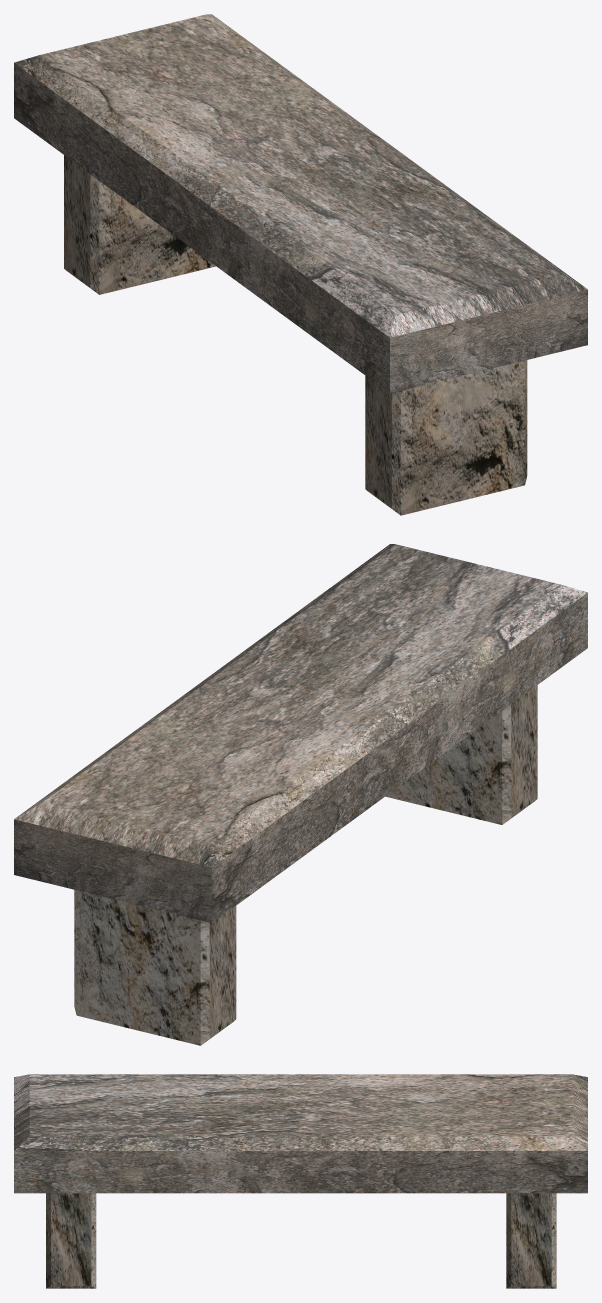
Rendered from StoneBench.fbx.
3 renders of one model, top to bottom at view 1: azimuth 30°, elevation 25°; view 2: azimuth 150°, elevation 25°; view 3: azimuth 270°, elevation 25°, orthographic. The views are drawn at different scales.
Visible parts, largest first — view 1: StoneBench; view 2: StoneBench; view 3: StoneBench.
Part boxes in pixels (x1,y1,x2,y2): StoneBench: (14,14,587,515); StoneBench: (14,544,587,1045); StoneBench: (14,1074,587,1288).
Size of the model in its own units: 15.54 by 15.91 by 51.09.
2 materials, 2 textured.
